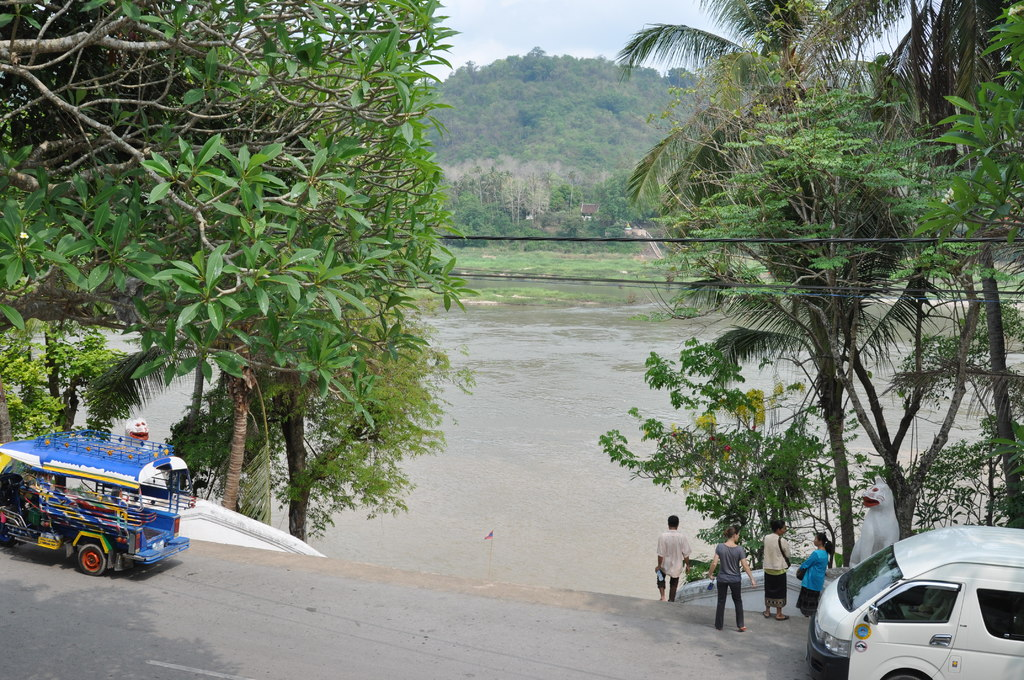Car: (800, 519, 1023, 679)
